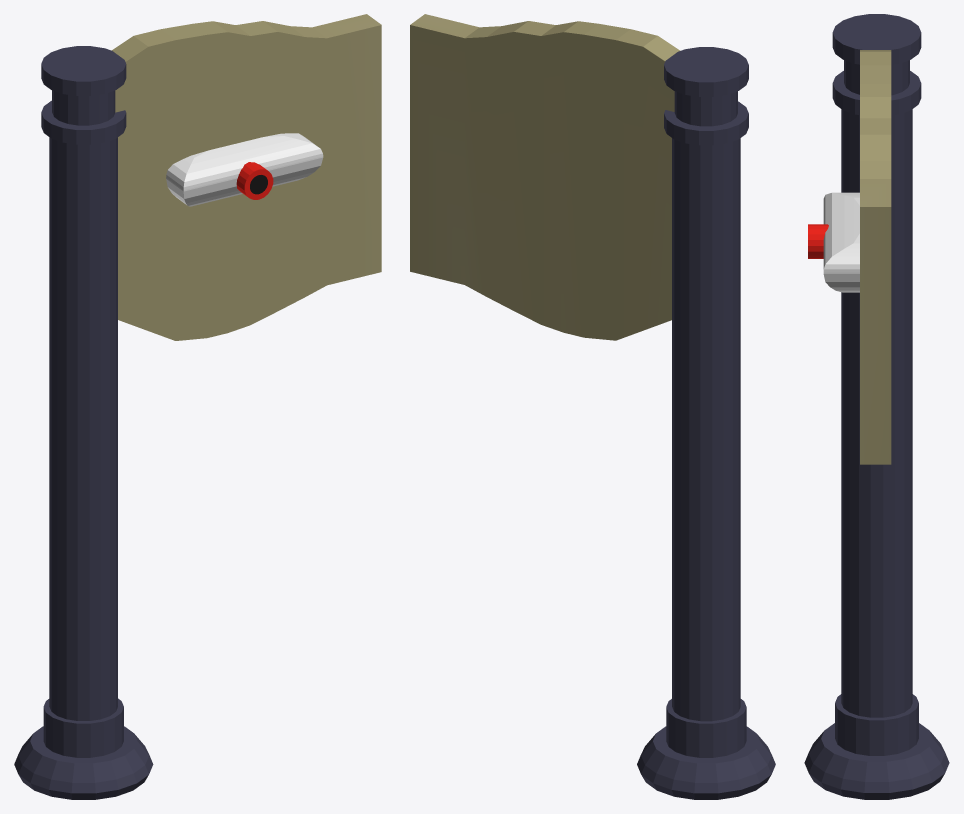
Rendered from bandeira.fbx.
3 renders of one model, left to right at view 1: azimuth 30°, elevation 25°; view 2: azimuth 150°, elevation 25°; view 3: azimuth 270°, elevation 25°, orthographic. The views are drawn at different scales.
Parts seen in each view (by area): view 1: bandeira; view 2: bandeira; view 3: bandeira.
Part boxes in pixels (x1,y1,x2,y2): bandeira: (14, 14, 381, 799); bandeira: (410, 14, 775, 799); bandeira: (804, 14, 949, 799).
Bounding box in the file's own units: 127 × 249 × 43.8.
